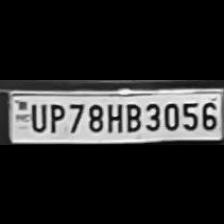0: (160, 98, 180, 130)
3: (142, 99, 160, 131)
5: (180, 97, 198, 130)
6: (198, 97, 218, 130)
7: (64, 100, 84, 132)
8: (84, 100, 104, 132)
B: (121, 100, 141, 132)
H: (104, 100, 122, 132)
P: (46, 100, 64, 132)
U: (28, 100, 48, 132)
